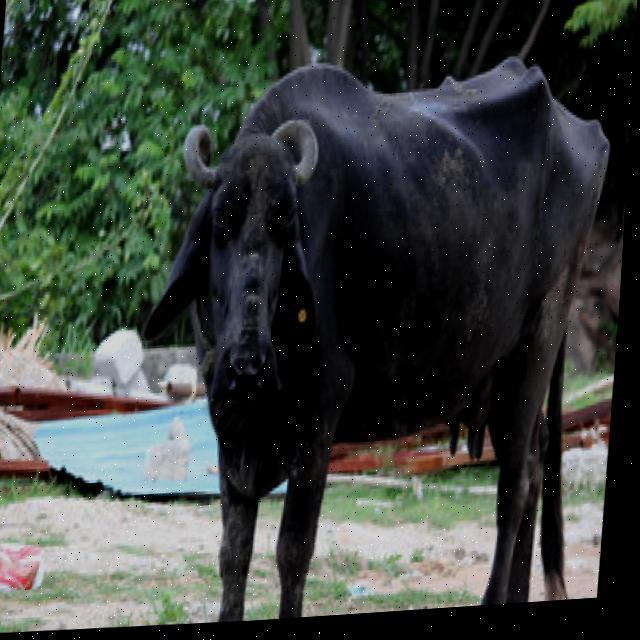Buffalo: (115, 31, 621, 630)
